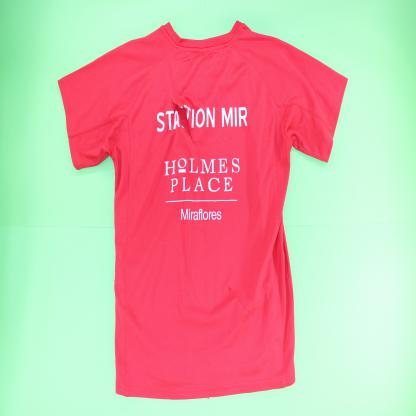hole: (170, 98, 196, 147), (226, 283, 257, 319)
